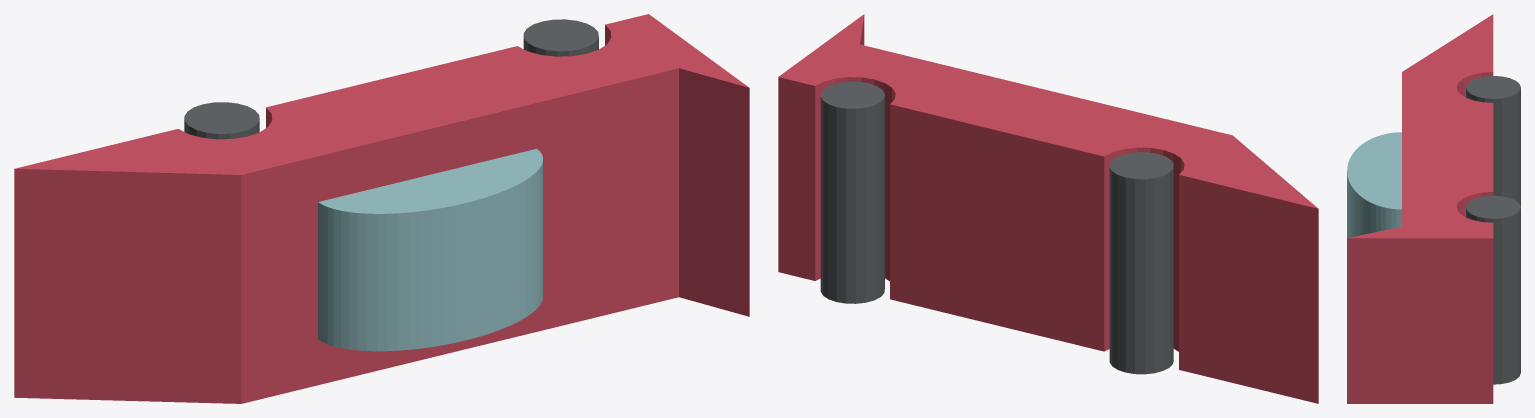
Rendered from testCar.glb.
3 views of the same model, side by side, from view 1: azimuth 30°, elevation 25°; view 2: azimuth 150°, elevation 25°; view 3: azimuth 270°, elevation 25° (orthographic). The views are drawn at different scales.
Visible parts, largest first — view 1: Mesh_Mesh_head_geo.001_lambert2SG.001; view 2: Mesh_Mesh_head_geo.001_lambert2SG.001; view 3: Mesh_Mesh_head_geo.001_lambert2SG.001.
Part boxes in pixels (<box>): Mesh_Mesh_head_geo.001_lambert2SG.001: <box>14,14,749,403</box>; Mesh_Mesh_head_geo.001_lambert2SG.001: <box>778,14,1318,403</box>; Mesh_Mesh_head_geo.001_lambert2SG.001: <box>1347,14,1520,403</box>.
Bounding box in the file's own units: 29 × 10 × 9.5.
